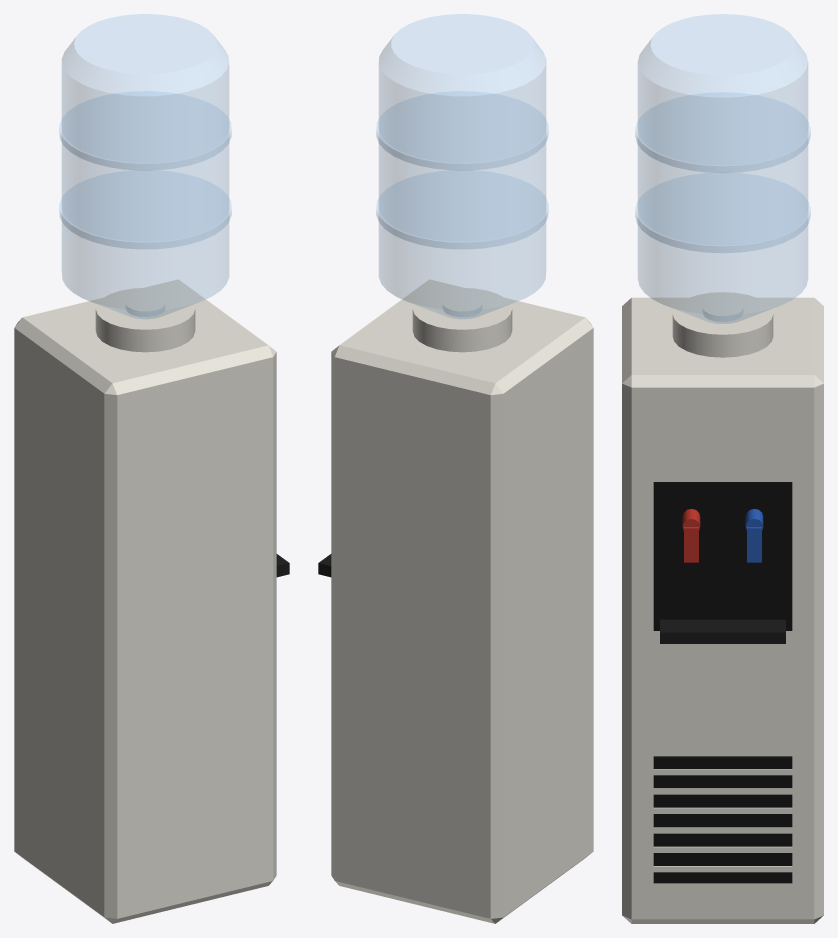
Rendered from WaterCooler.gltf.
The picture shows the model from 3 angles, left to right: view 1: azimuth 30°, elevation 25°; view 2: azimuth 150°, elevation 25°; view 3: azimuth 270°, elevation 25°; orthographic projection.
Visible parts, largest first — view 1: WaterCooler; view 2: WaterCooler; view 3: WaterCooler.
Part boxes in pixels (bbox=[...]): WaterCooler: bbox=[14, 14, 289, 923]; WaterCooler: bbox=[318, 14, 593, 923]; WaterCooler: bbox=[622, 14, 823, 923].
Size of the model in its own units: 0.37 by 1.47 by 0.32.
